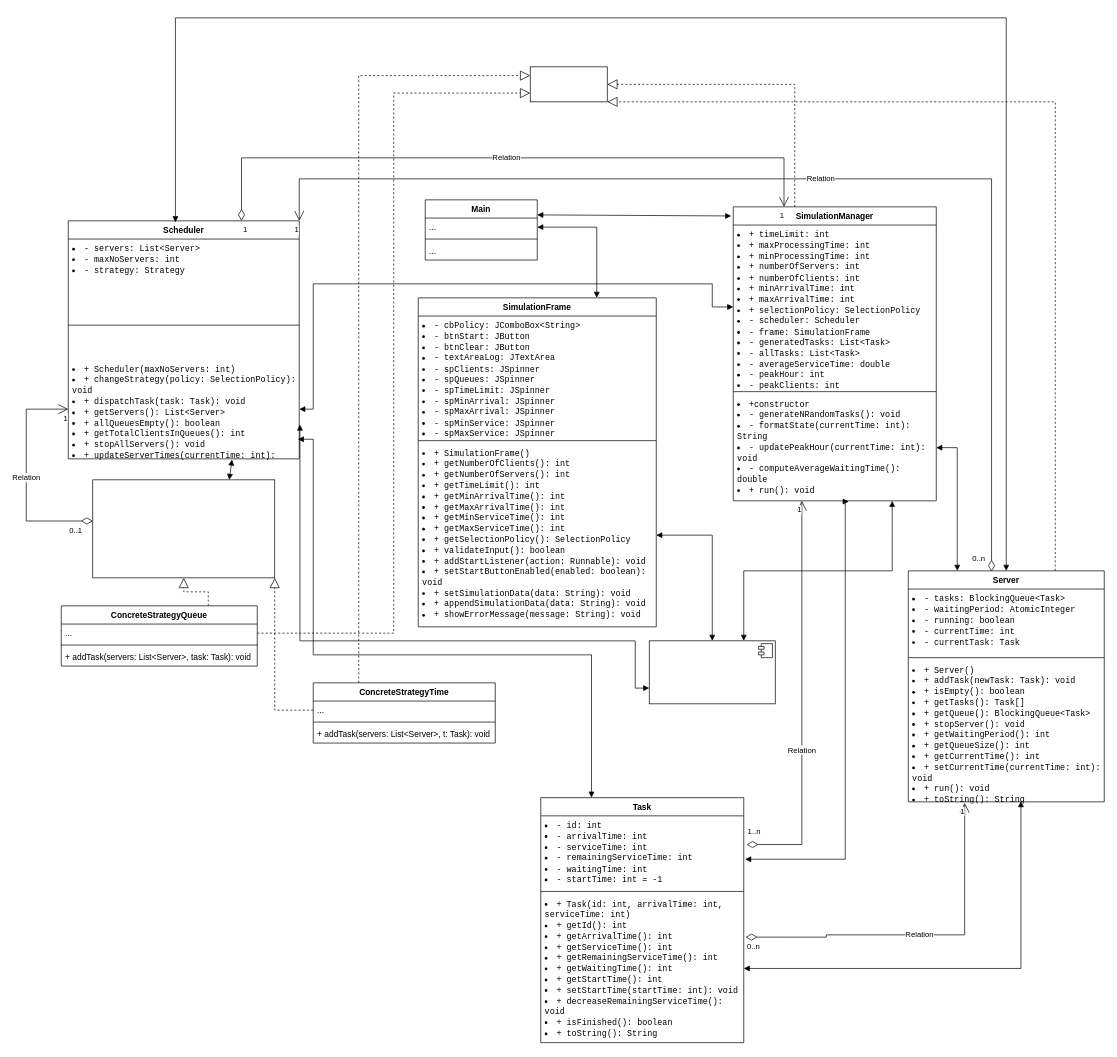
Image size: 1117x1057. Some labels were removed from this diagram. Each missing label, with the centre of its shape:
<<Interface>> Strategy + ... + addTask(servers: List<Server>, t: Task): void: point (183, 528)
SelectionPolicy SHORTEST_QUEUE SHORTEST_TIME: point (712, 672)
«interface» Runnable: point (568, 84)
